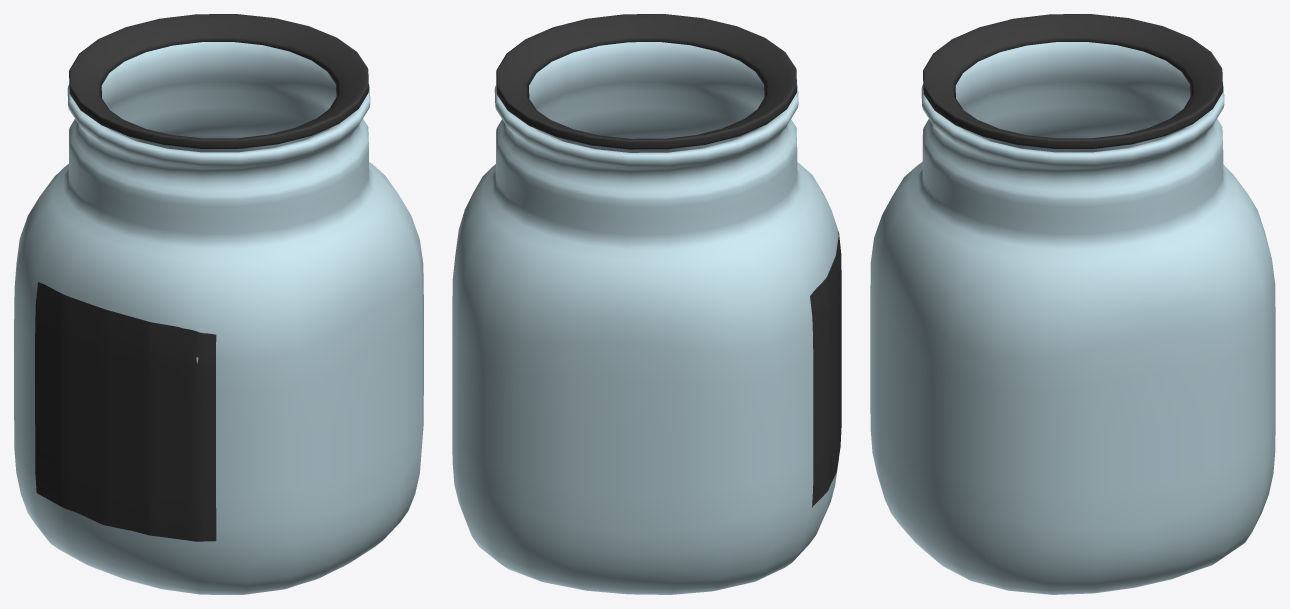
The model's file is VP_Kitchen_Jar_3_Body.FBX.
3 views of the same model, side by side, from view 1: azimuth 30°, elevation 25°; view 2: azimuth 150°, elevation 25°; view 3: azimuth 270°, elevation 25° (orthographic).
Parts seen in each view (by area): view 1: VP_Kitchen_Jar_3_Body; view 2: VP_Kitchen_Jar_3_Body; view 3: VP_Kitchen_Jar_3_Body.
Boxes of the visible parts, left/top/right/bottom form: VP_Kitchen_Jar_3_Body: left=14, top=14, right=423, bottom=594; VP_Kitchen_Jar_3_Body: left=452, top=14, right=841, bottom=594; VP_Kitchen_Jar_3_Body: left=870, top=14, right=1275, bottom=594.
Size of what is drawn, in the model's own units: 11.59 by 11.59 by 14.34.
